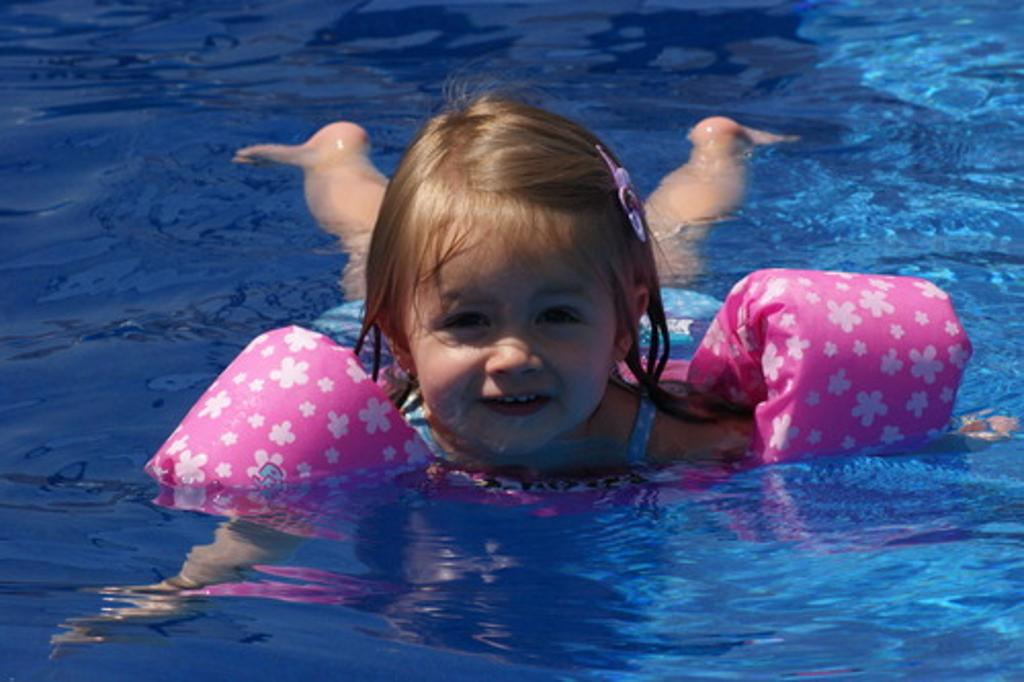face: (410, 198, 624, 452)
